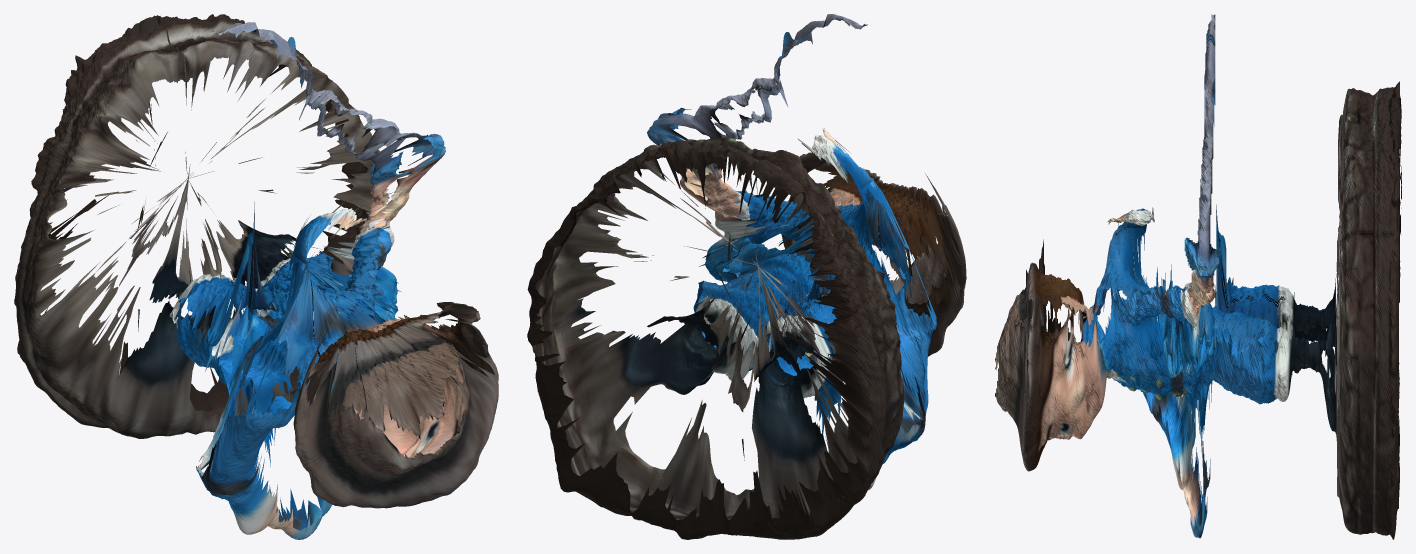
The picture shows the model from 3 angles, left to right: view 1: azimuth 30°, elevation 25°; view 2: azimuth 150°, elevation 25°; view 3: azimuth 270°, elevation 25°; orthographic projection. The views are drawn at different scales.
Visible parts, largest first — view 1: geometry_0; view 2: geometry_0; view 3: geometry_0.
Boxes of the visible parts, box(x1,y1,x2,y2) form: geometry_0: box(14, 14, 498, 539); geometry_0: box(527, 14, 966, 539); geometry_0: box(995, 14, 1401, 539).
Bounding box in the file's own units: 1.14 × 1.58 × 1.2.
1 material, 1 textured.
